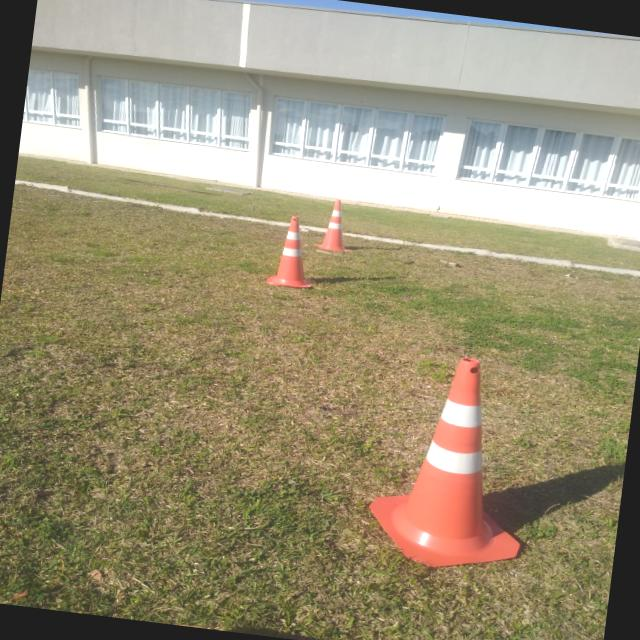cone: (358, 345, 551, 585), (256, 210, 322, 290), (308, 191, 357, 253)
